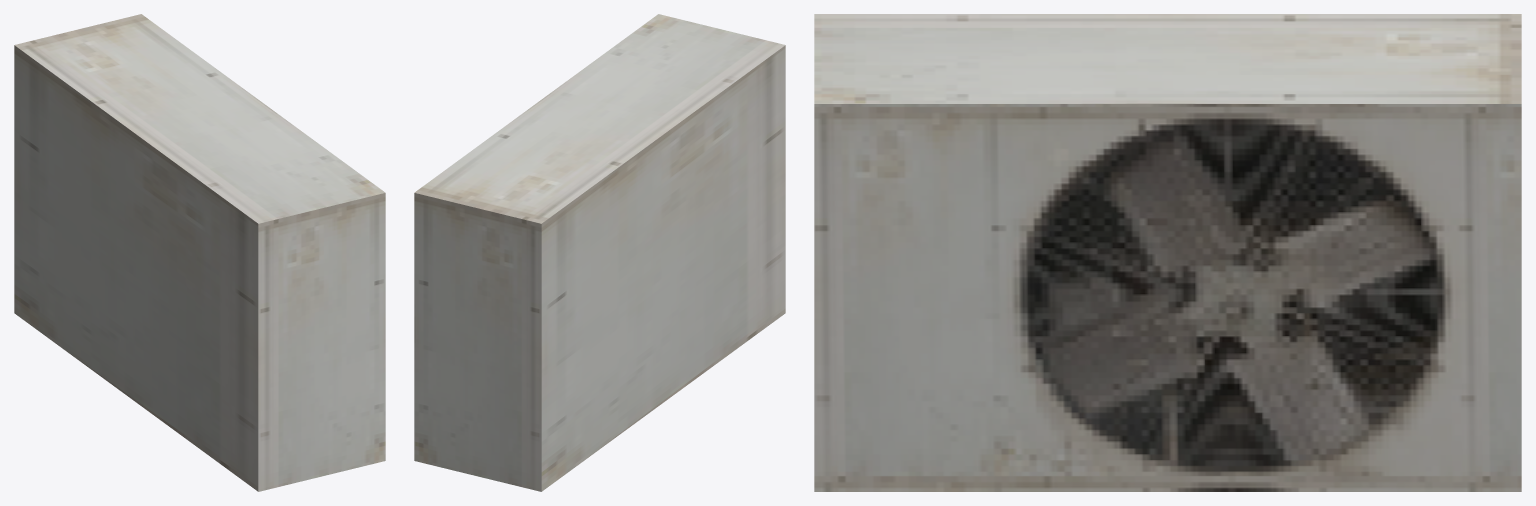
The model's file is psx_air_conditioner.glb.
The picture shows the model from 3 angles, left to right: view 1: azimuth 30°, elevation 25°; view 2: azimuth 150°, elevation 25°; view 3: azimuth 270°, elevation 25°; orthographic projection. The views are drawn at different scales.
Visible parts, largest first — view 1: Air Conditioner; view 2: Air Conditioner; view 3: Air Conditioner.
Boxes of the visible parts, x1,y1,x2,y2 form: Air Conditioner: (14, 14, 385, 491); Air Conditioner: (414, 14, 785, 491); Air Conditioner: (814, 14, 1521, 491).
Bounding box in the file's own units: 0.2366 × 0.4763 × 0.7863.
1 material, 1 textured.
